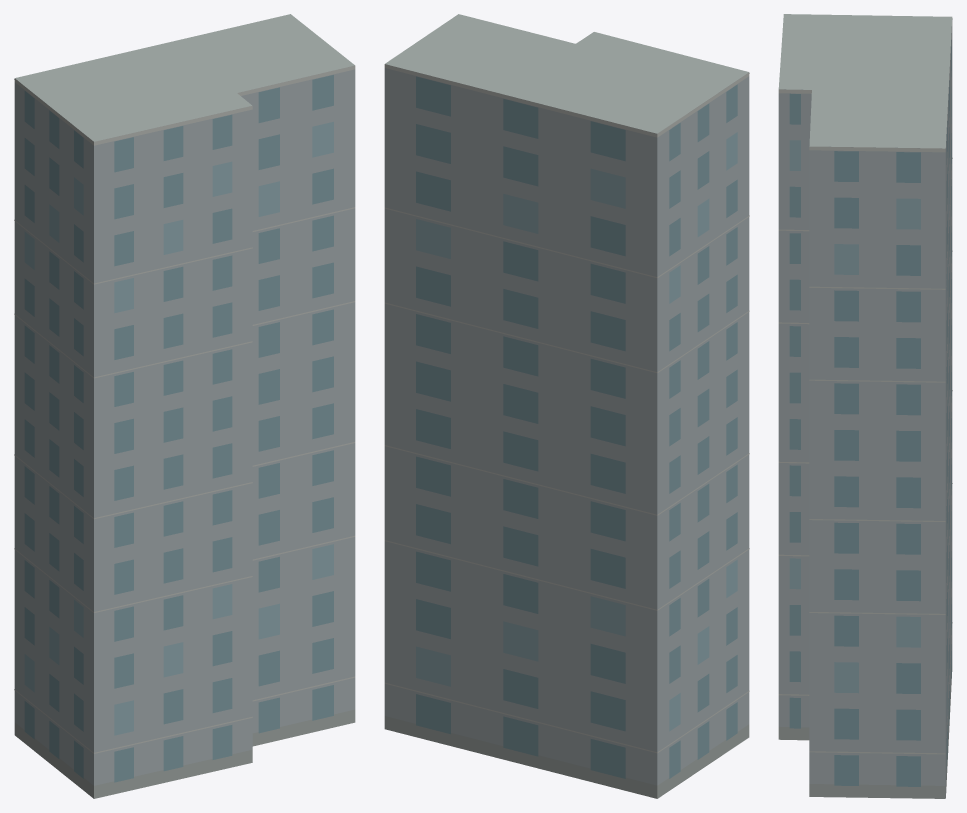
The model's file is survey-upis-32560069.glb.
3 views of the same model, side by side, from view 1: azimuth 30°, elevation 25°; view 2: azimuth 150°, elevation 25°; view 3: azimuth 270°, elevation 25° (orthographic). The views are drawn at different scales.
Visible parts, largest first — view 1: survey-upis-32560069.tmp; view 2: survey-upis-32560069.tmp; view 3: survey-upis-32560069.tmp.
Part boxes in pixels (<box>): survey-upis-32560069.tmp: <box>14,14,355,798</box>; survey-upis-32560069.tmp: <box>384,14,749,798</box>; survey-upis-32560069.tmp: <box>778,14,952,798</box>.
Size of the model in its own units: 18.37 by 41.35 by 10.03.
